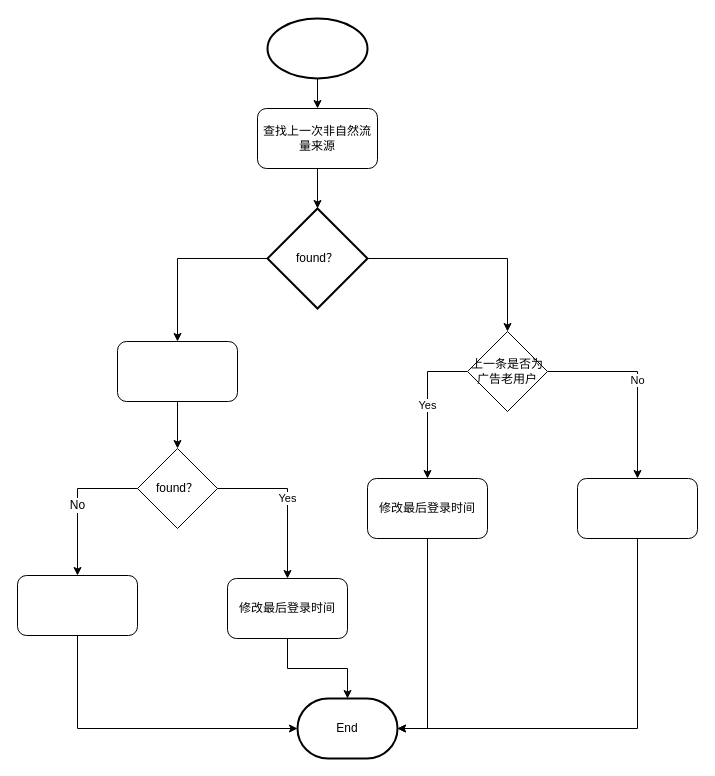
The diagram is 715 pixels wide and 776 high, and some of its shapes have lost their labels. Here are the shapes that lost their labels. From the top down, the box of each, then its label:
(266, 17, 368, 79): Start
(116, 340, 238, 402): 查找上一次自然流量来源
(576, 478, 698, 538): 新增一条广告老用户记录
(16, 574, 138, 636): 新增一条自然流量记录
